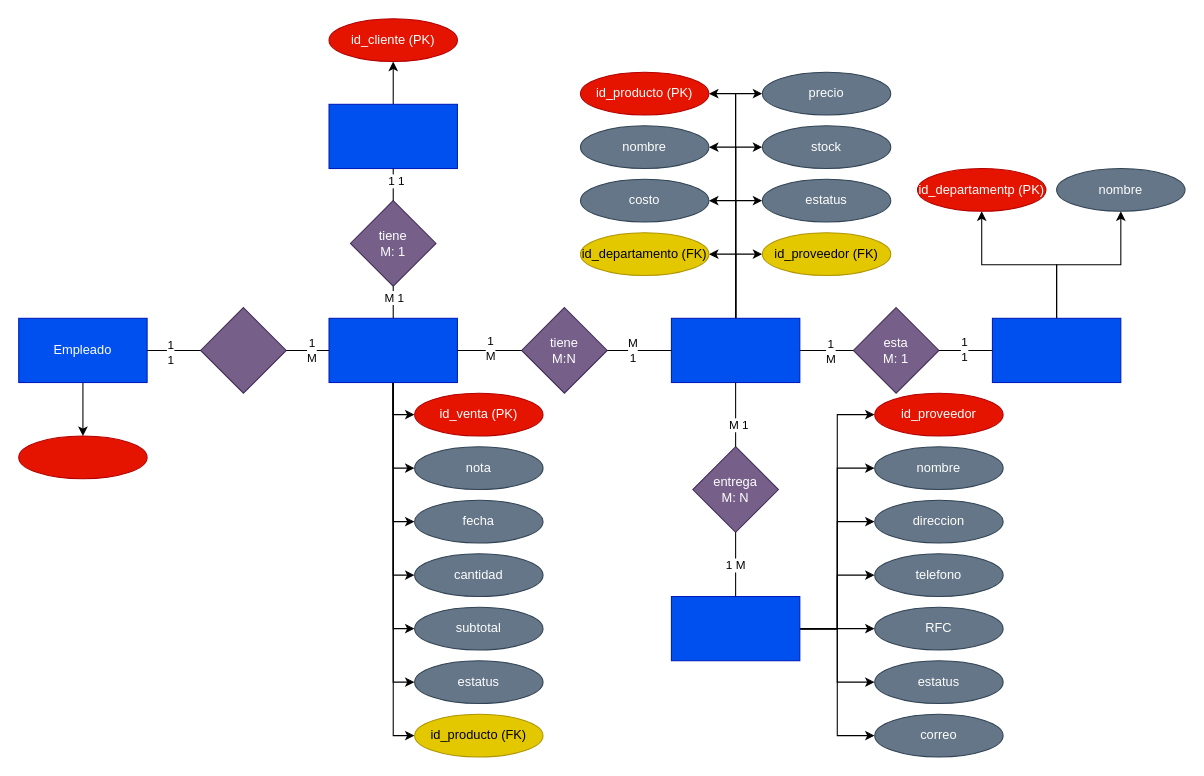
Image size: 1204x776. Some labels were removed from this diagram. Here are the shapes that lost their labels. From the top down, the centre of each, then its label:
At point 392,136: "Cliente".
At point 243,350: "realiza 1: M".
At point 392,350: "Venta".
At point 735,350: "Producto".
At point 1056,350: "Departamento".
At point 82,457: "id_empleado (PK)".
At point 735,628: "Proveedor".
